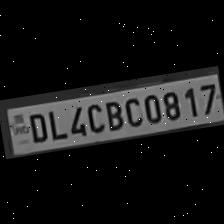0: (140, 89, 164, 124)
1: (178, 84, 200, 118)
4: (62, 101, 86, 137)
7: (194, 79, 220, 115)
8: (158, 86, 183, 122)
B: (101, 96, 125, 130)
C: (120, 92, 144, 128), (82, 99, 105, 134)
D: (24, 108, 50, 144)
L: (44, 104, 66, 140)
